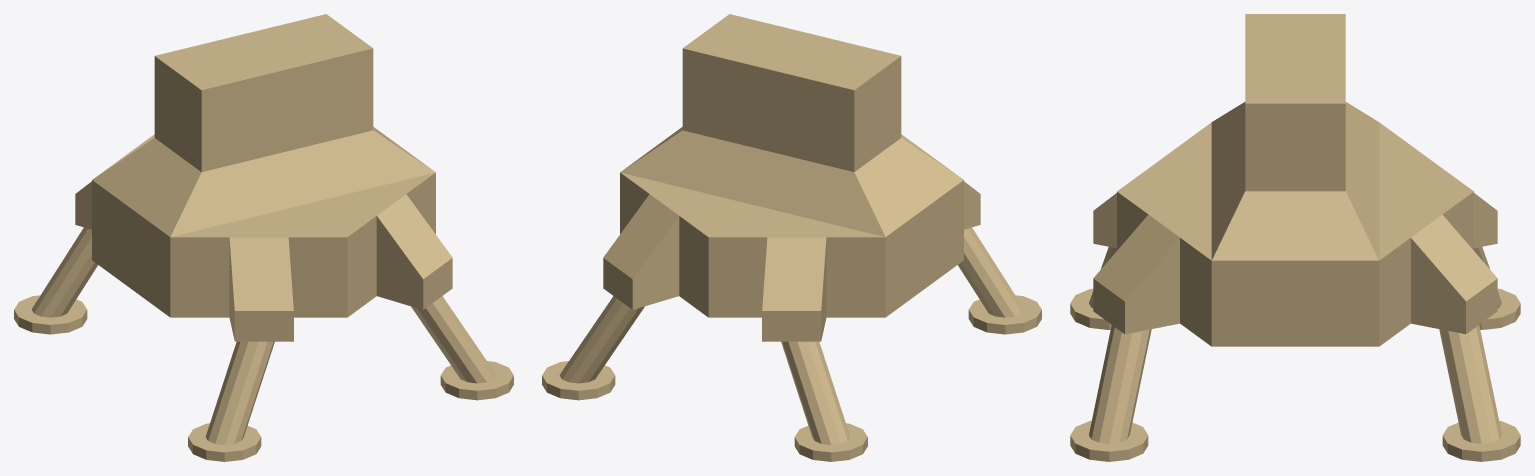
File: rocket.fbx
The picture shows the model from 3 angles, left to right: view 1: azimuth 30°, elevation 25°; view 2: azimuth 150°, elevation 25°; view 3: azimuth 270°, elevation 25°; orthographic projection. The views are drawn at different scales.
Visible parts, largest first — view 1: Circle; view 2: Circle; view 3: Circle.
Boxes of the visible parts, x1,y1,x2,y2 form: Circle: (14,14,513,461); Circle: (542,14,1041,461); Circle: (1070,14,1520,461).
Size of the model in its own units: 1.11 by 1 by 1.28.
